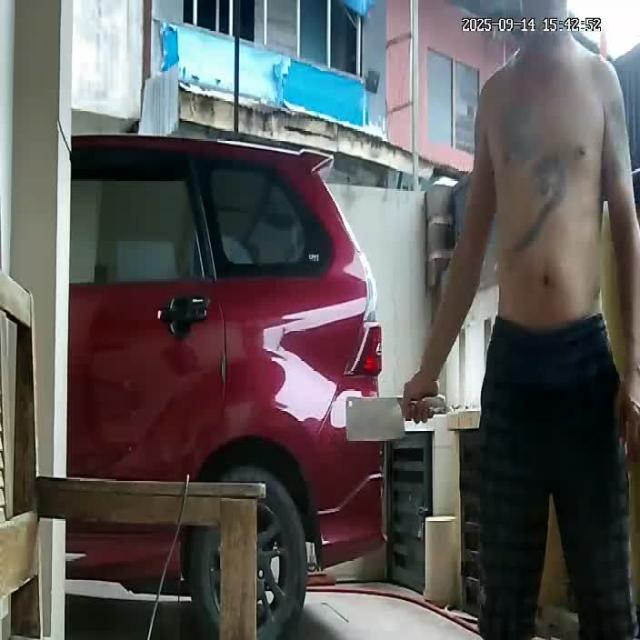senjata_tajam: (345, 393, 409, 443)
